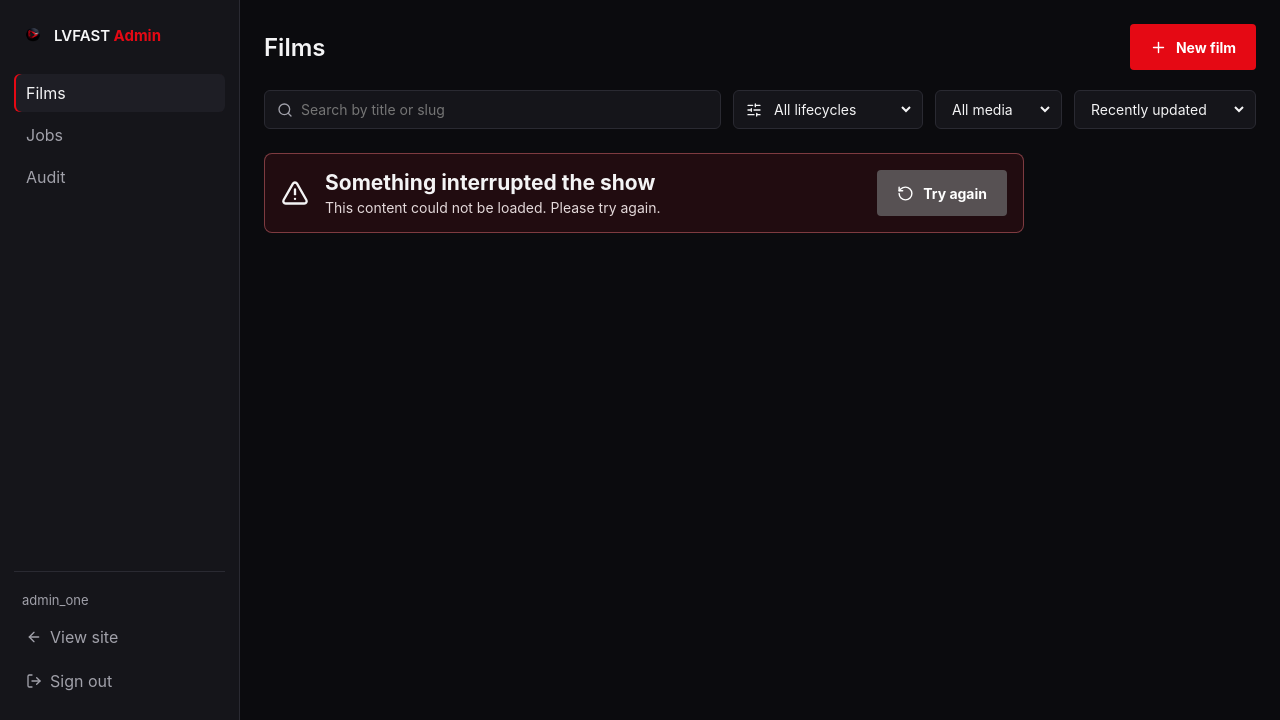
Film library › shows an error state and retries
This screenshot has width=1280, height=720.
Expected: the message is shown, [264, 153, 1024, 233]
Click the button "Try again": (942, 193) [877, 170, 1007, 216]
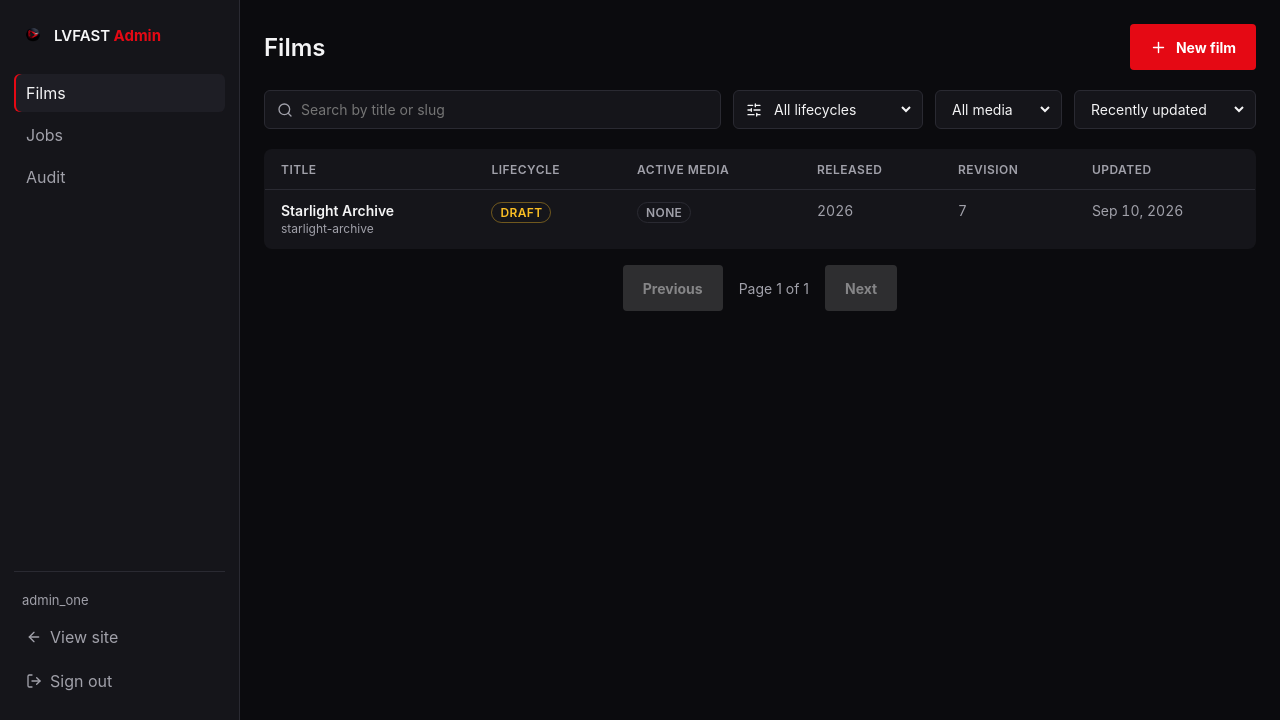
Now the link "Starlight Archive starlight-archive" is shown, box [281, 202, 394, 236]
